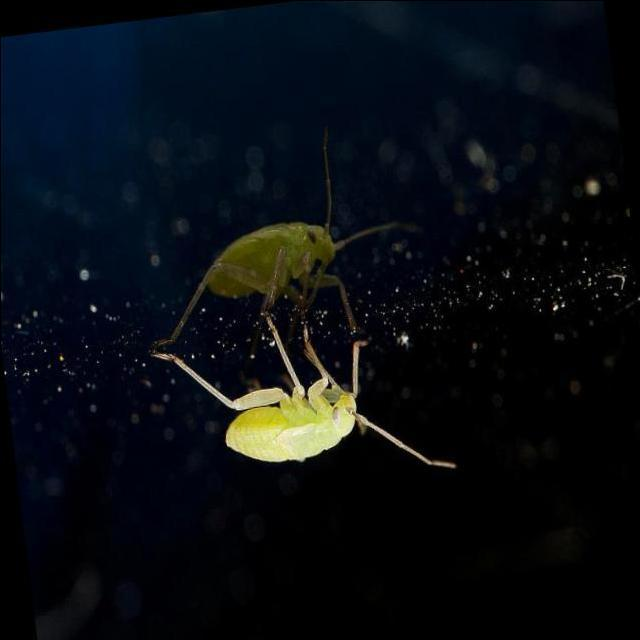aphid: (150, 298, 472, 520)
